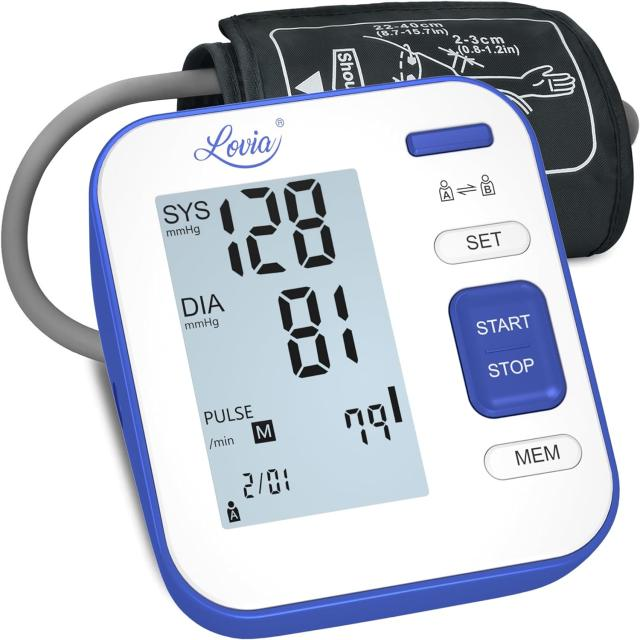dia: (270, 270, 364, 389)
pul: (336, 393, 398, 460)
ssd: (144, 152, 432, 548)
sys: (210, 173, 344, 284)
